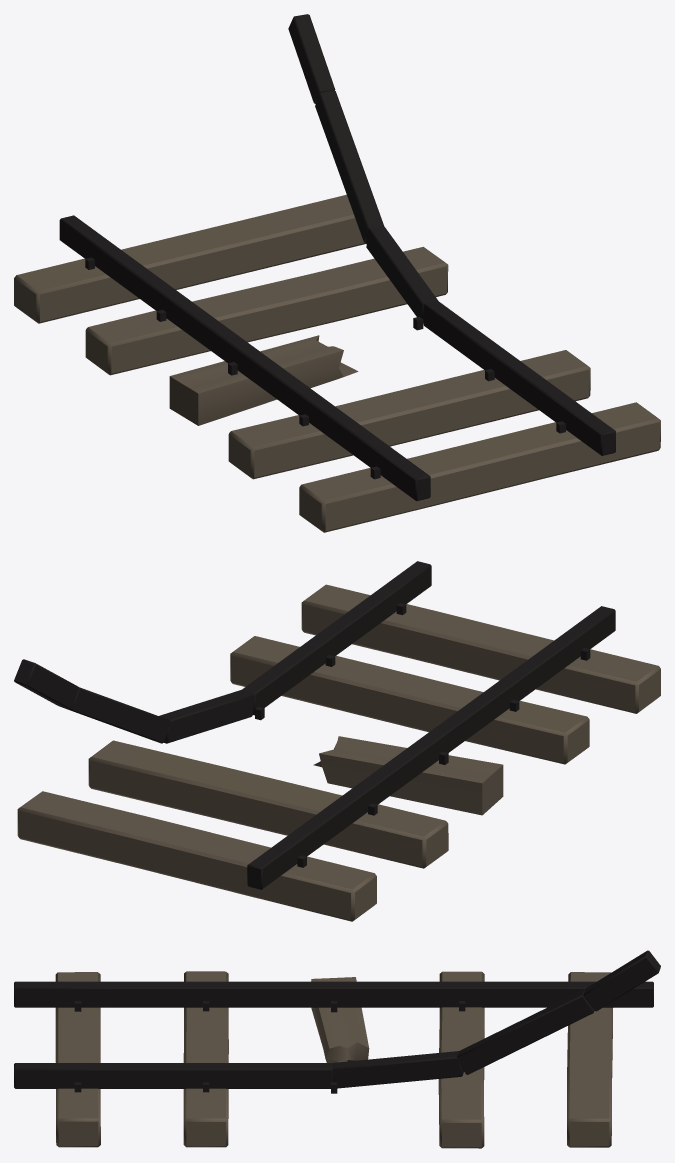
File: schienen_kaputt.glb
The picture shows the model from 3 angles, top to bottom: view 1: azimuth 30°, elevation 25°; view 2: azimuth 150°, elevation 25°; view 3: azimuth 270°, elevation 25°; orthographic projection. The views are drawn at different scales.
Parts seen in each view (by area): view 1: schienen_kaputt; view 2: schienen_kaputt; view 3: schienen_kaputt.
Boxes of the visible parts, bbox=[...] form: schienen_kaputt: bbox=[14, 14, 660, 532]; schienen_kaputt: bbox=[14, 561, 660, 921]; schienen_kaputt: bbox=[14, 950, 660, 1148].
Size of the model in its own units: 1.1 by 0.628 by 2.02.
